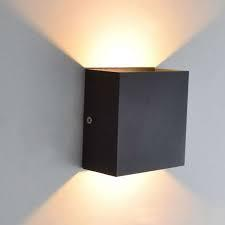Lamp: (71, 53, 193, 192)
